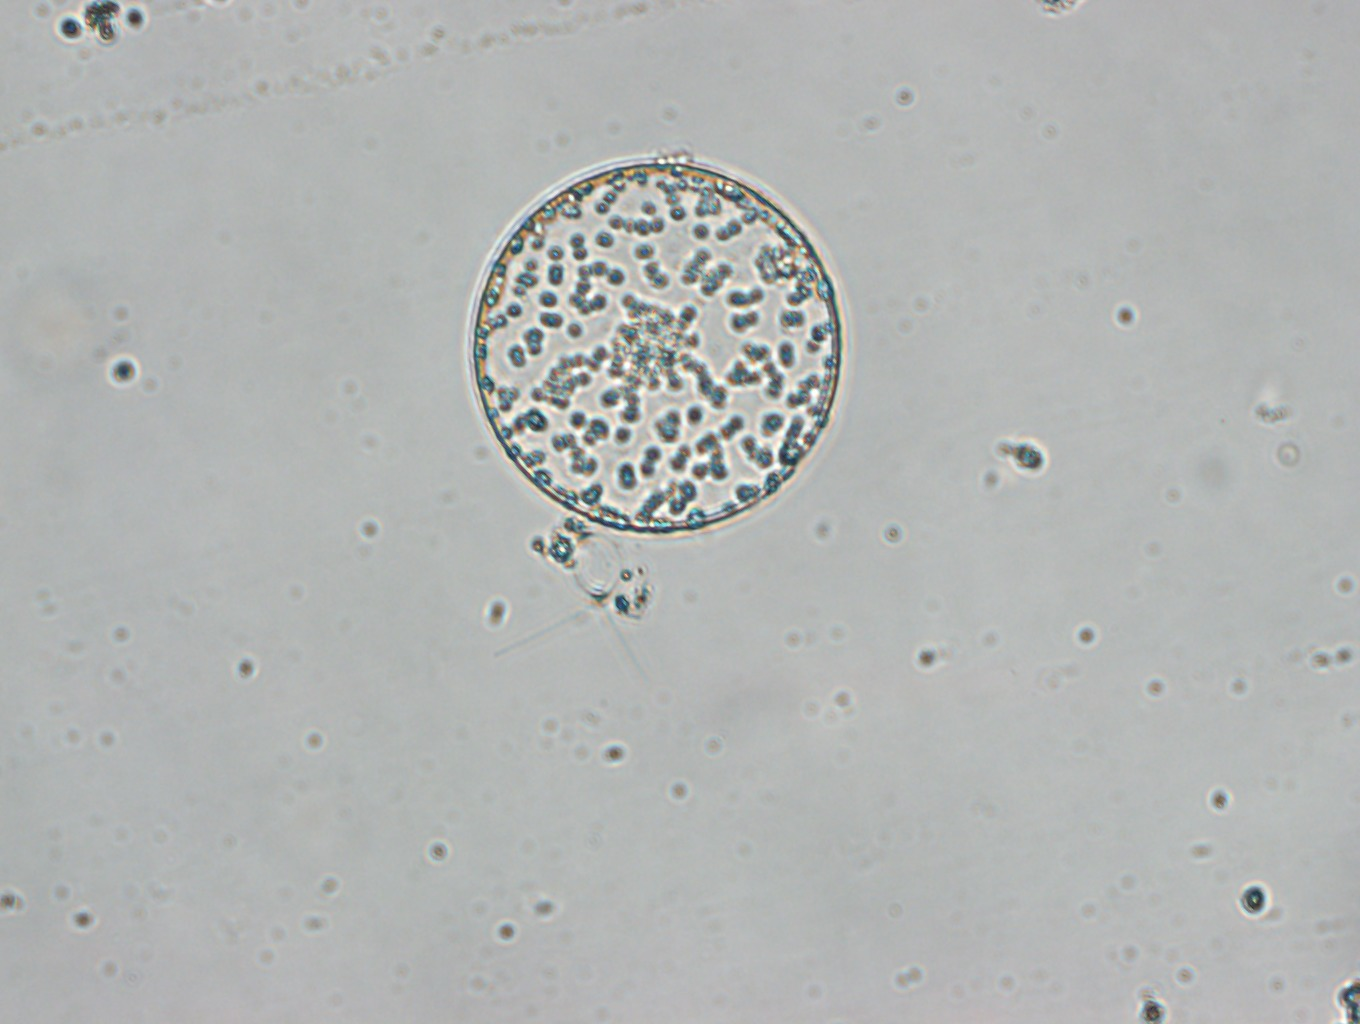coscinodiscus: (466, 153, 841, 539)
